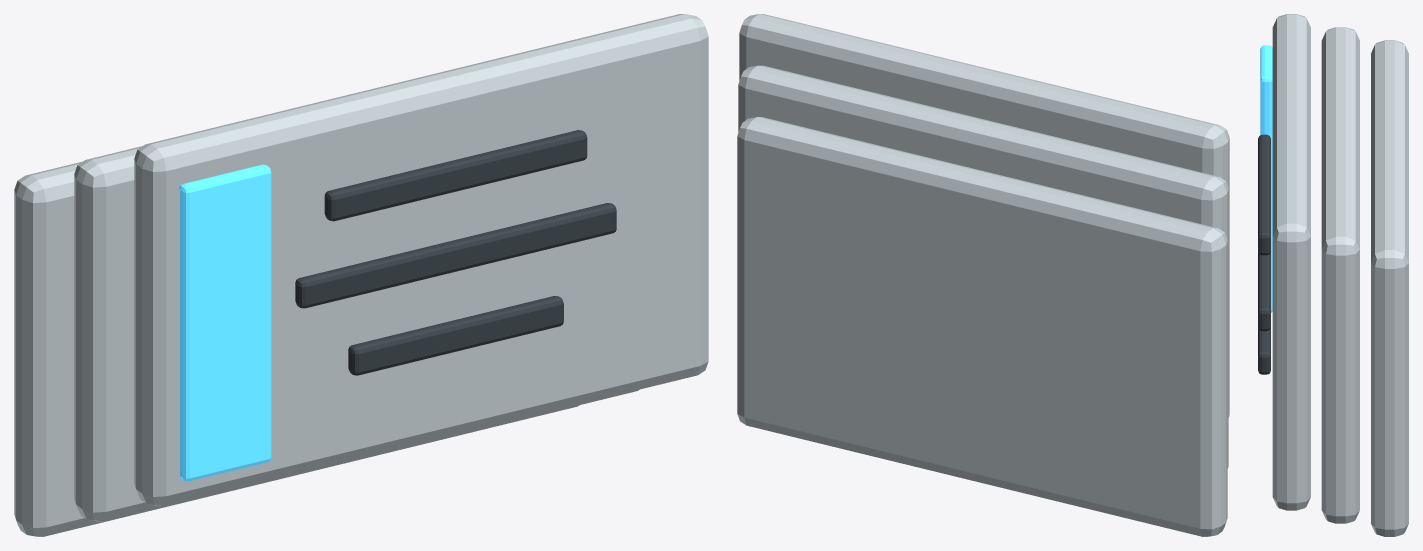
Rendered from Artifact_Offer.glb.
The picture shows the model from 3 angles, left to right: view 1: azimuth 30°, elevation 25°; view 2: azimuth 150°, elevation 25°; view 3: azimuth 270°, elevation 25°; orthographic projection. The views are drawn at different scales.
Visible parts, largest first — view 1: Artifact_Offer_Mesh; view 2: Artifact_Offer_Mesh; view 3: Artifact_Offer_Mesh.
Boxes of the visible parts, x1,y1,x2,y2 form: Artifact_Offer_Mesh: (14, 14, 708, 536); Artifact_Offer_Mesh: (737, 14, 1229, 536); Artifact_Offer_Mesh: (1258, 14, 1408, 536).
Size of the model in its own units: 0.53 by 0.34 by 0.1385.
